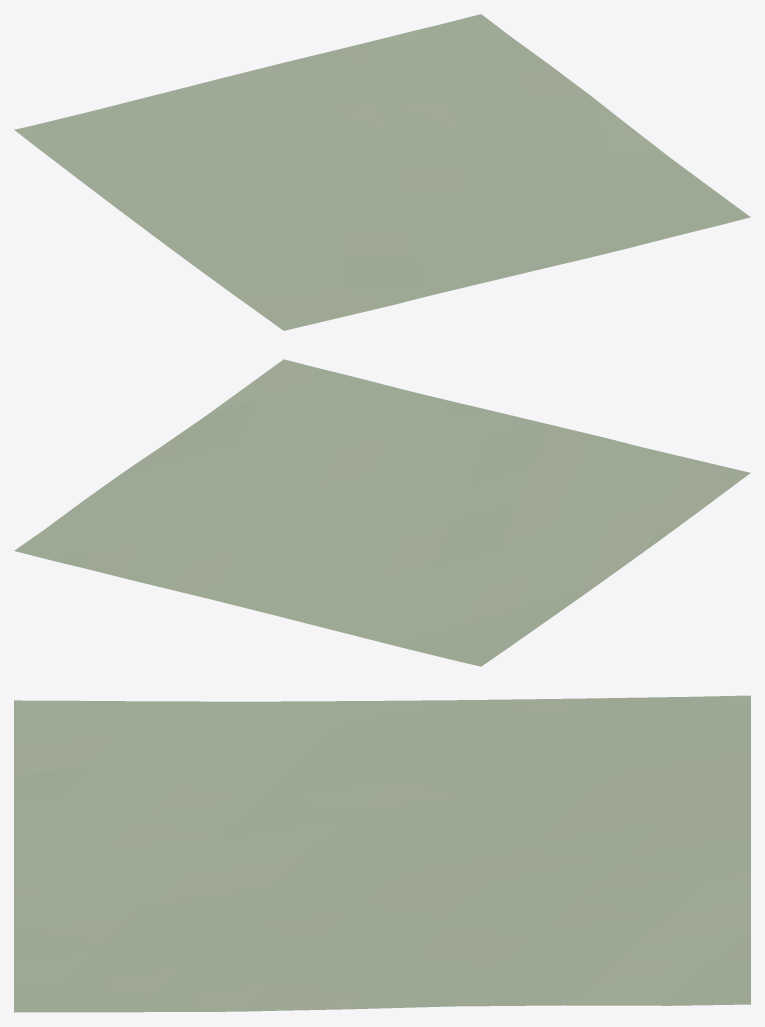
The model's file is SM_MPRR_Terrain_-3_-1.fbx.
The picture shows the model from 3 angles, top to bottom: view 1: azimuth 30°, elevation 25°; view 2: azimuth 150°, elevation 25°; view 3: azimuth 270°, elevation 25°; orthographic projection. The views are drawn at different scales.
Parts seen in each view (by area): view 1: SM_MPRR_Terrain_-3_-1; view 2: SM_MPRR_Terrain_-3_-1; view 3: SM_MPRR_Terrain_-3_-1.
Boxes of the visible parts, left/top/right/bottom form: SM_MPRR_Terrain_-3_-1: left=14, top=14, right=750, bottom=330; SM_MPRR_Terrain_-3_-1: left=14, top=359, right=750, bottom=666; SM_MPRR_Terrain_-3_-1: left=14, top=695, right=750, bottom=1012.
Bounding box in the file's own units: 15000 × 15000 × 212.
